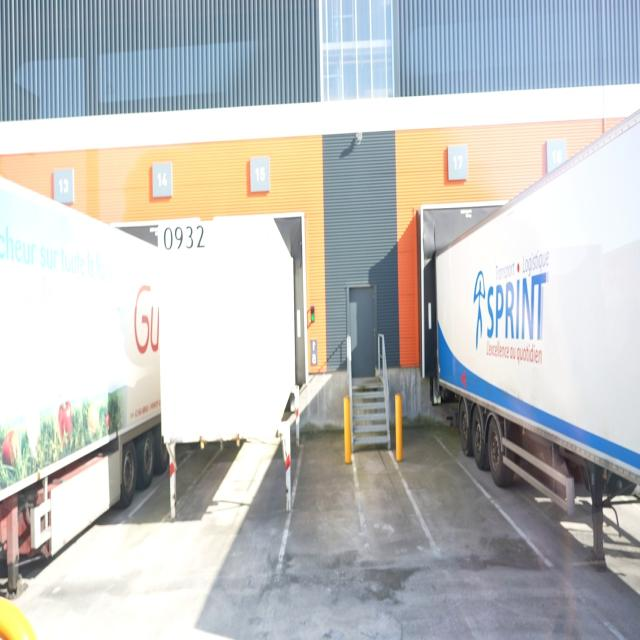Code: (162, 220, 207, 256)
